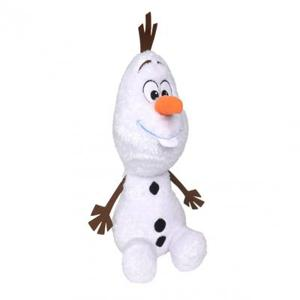olaf: (91, 7, 216, 280)
